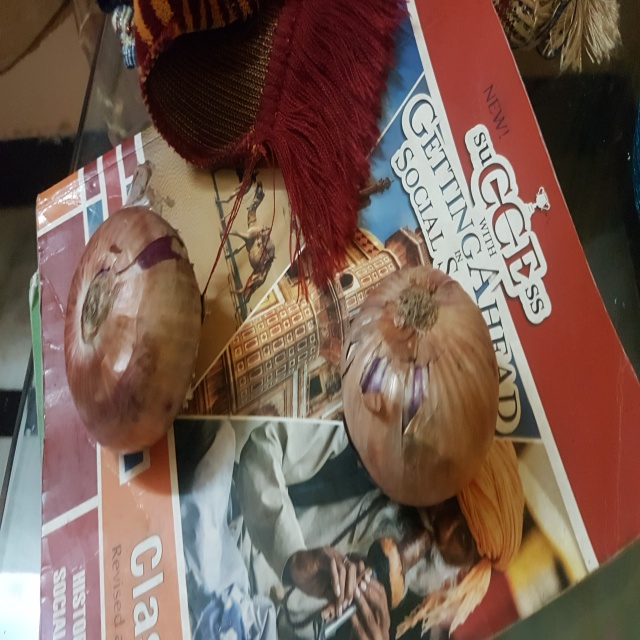onion: (331, 265, 514, 510), (61, 197, 210, 460)
